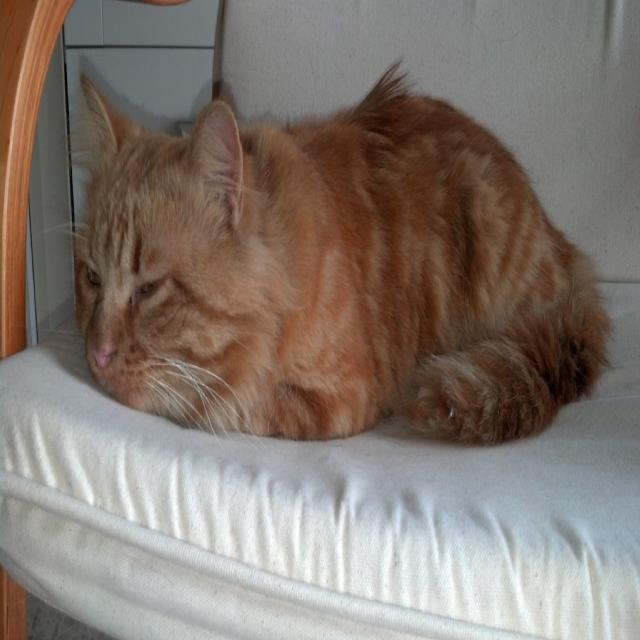Cat: (50, 48, 612, 450)
